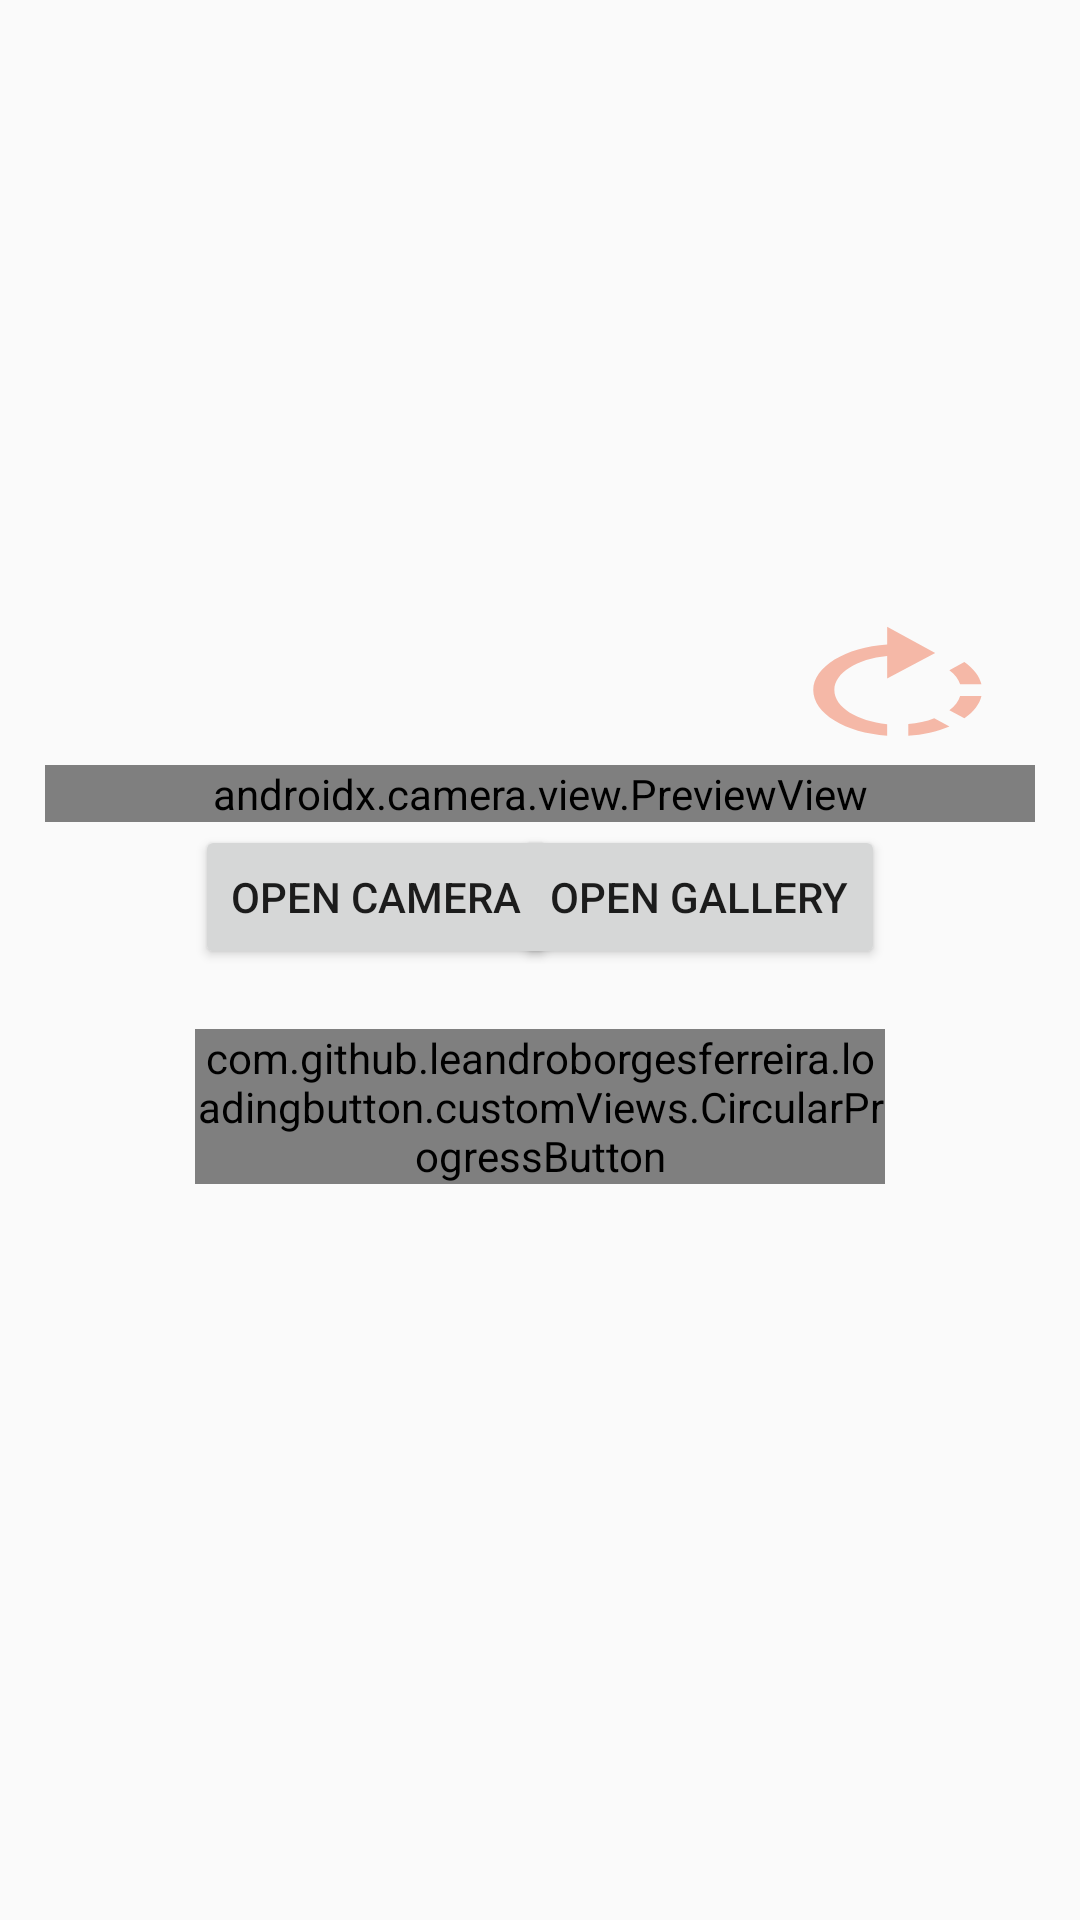

Screen size 1080×1920. Icon name, then its center in pixels as (x=x, y=y):
rotate: (x=897, y=681)
